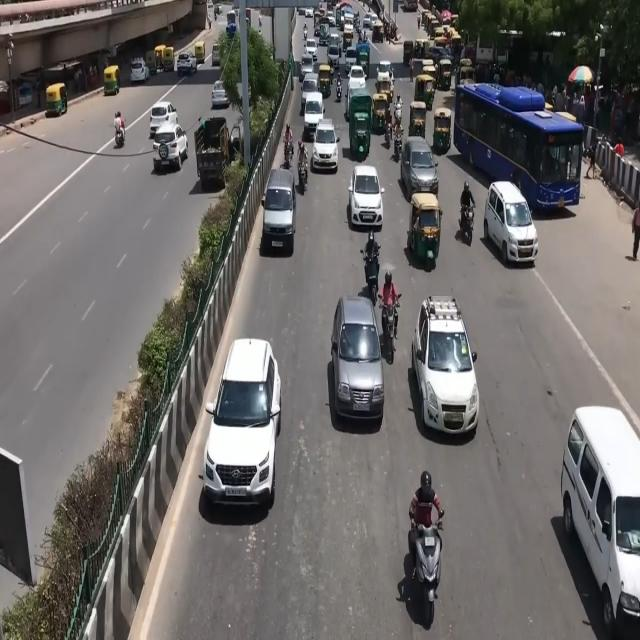auto: (408, 190, 442, 267), (432, 106, 453, 156), (414, 73, 436, 114), (371, 93, 391, 136), (409, 100, 428, 140), (46, 83, 68, 117), (372, 89, 388, 134), (104, 65, 120, 95), (193, 40, 206, 66), (162, 46, 175, 71)
bike-auto: (408, 472, 445, 572), (378, 270, 401, 337), (460, 180, 476, 237), (297, 138, 308, 176), (114, 110, 125, 145), (284, 123, 294, 161), (395, 95, 403, 121), (329, 62, 335, 88), (354, 13, 360, 32), (417, 13, 421, 30), (258, 15, 262, 28), (214, 11, 218, 21)
